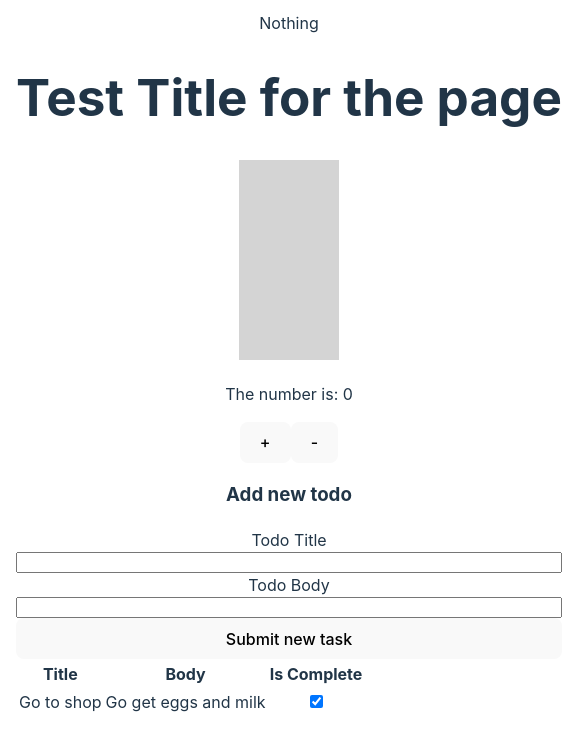
Test: App › Click plus button -> increments counter
Click the button "+": (265, 442) [240, 422, 291, 463]
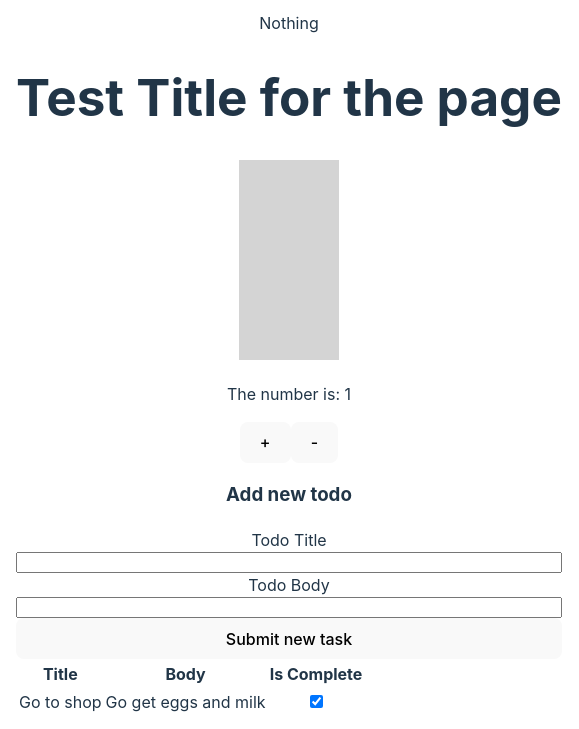
Now the text "The number is: 1" is shown, box [227, 384, 351, 404]
